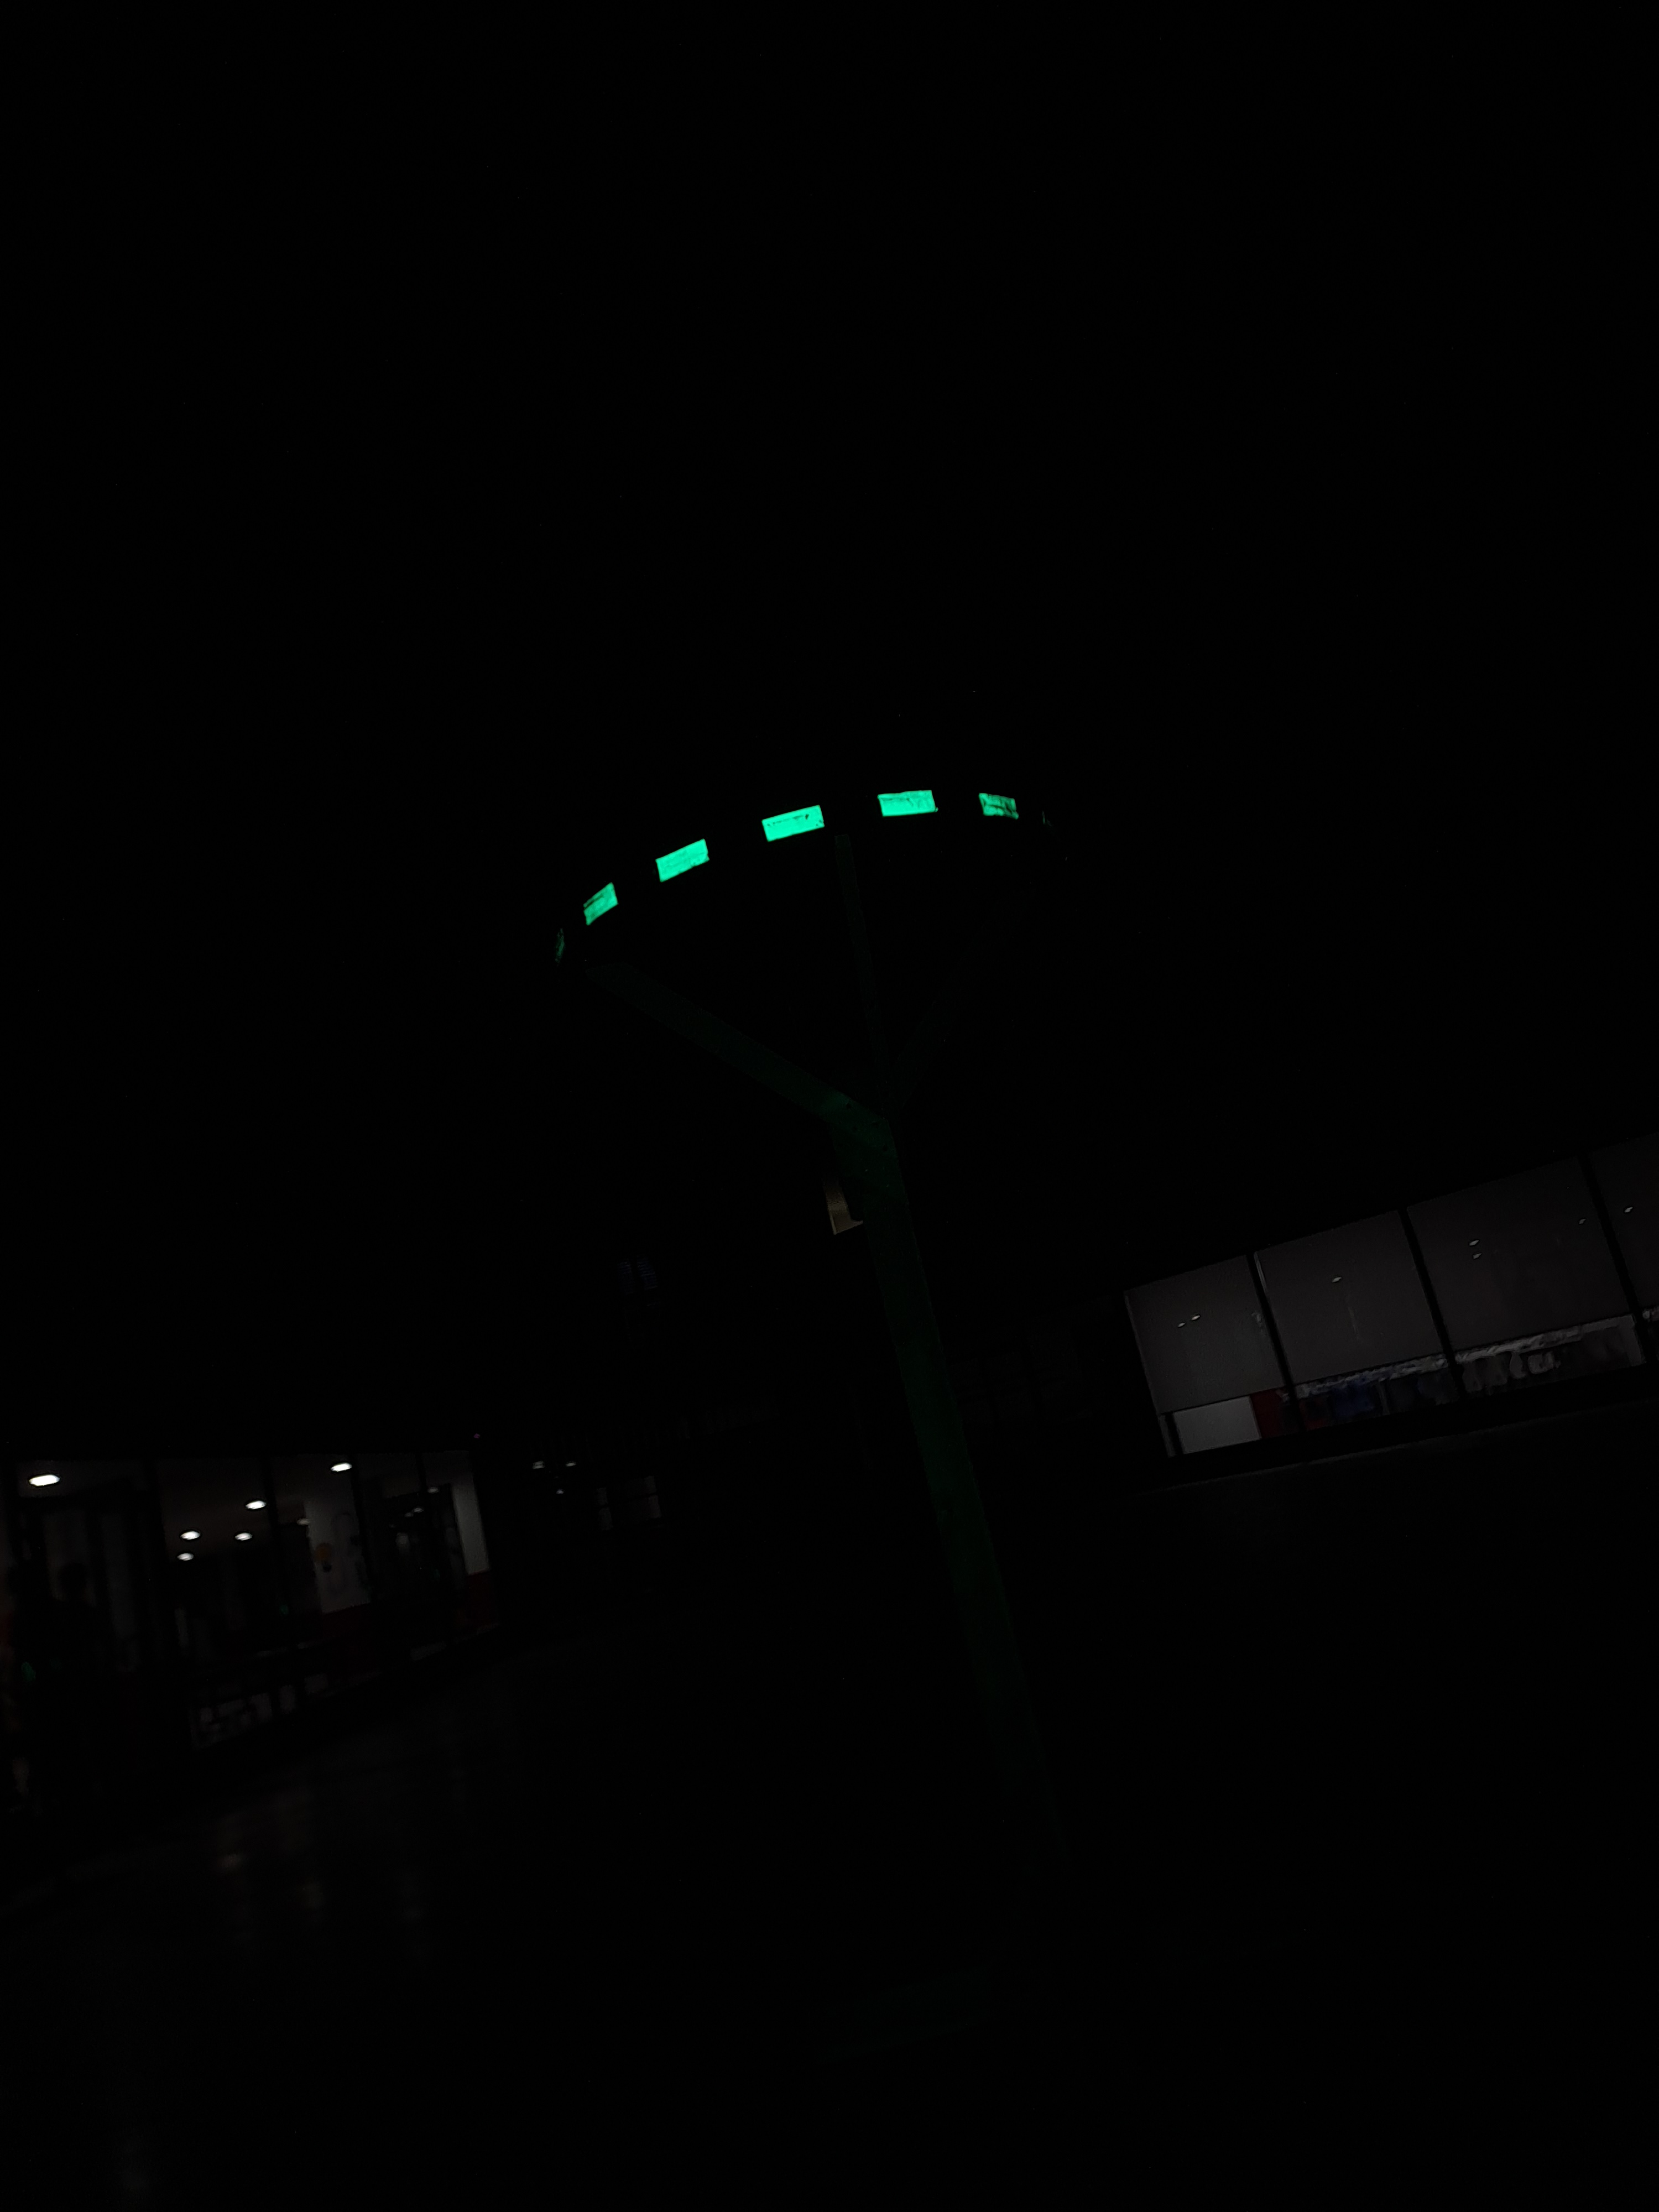hoop: (559, 772, 1032, 928)
